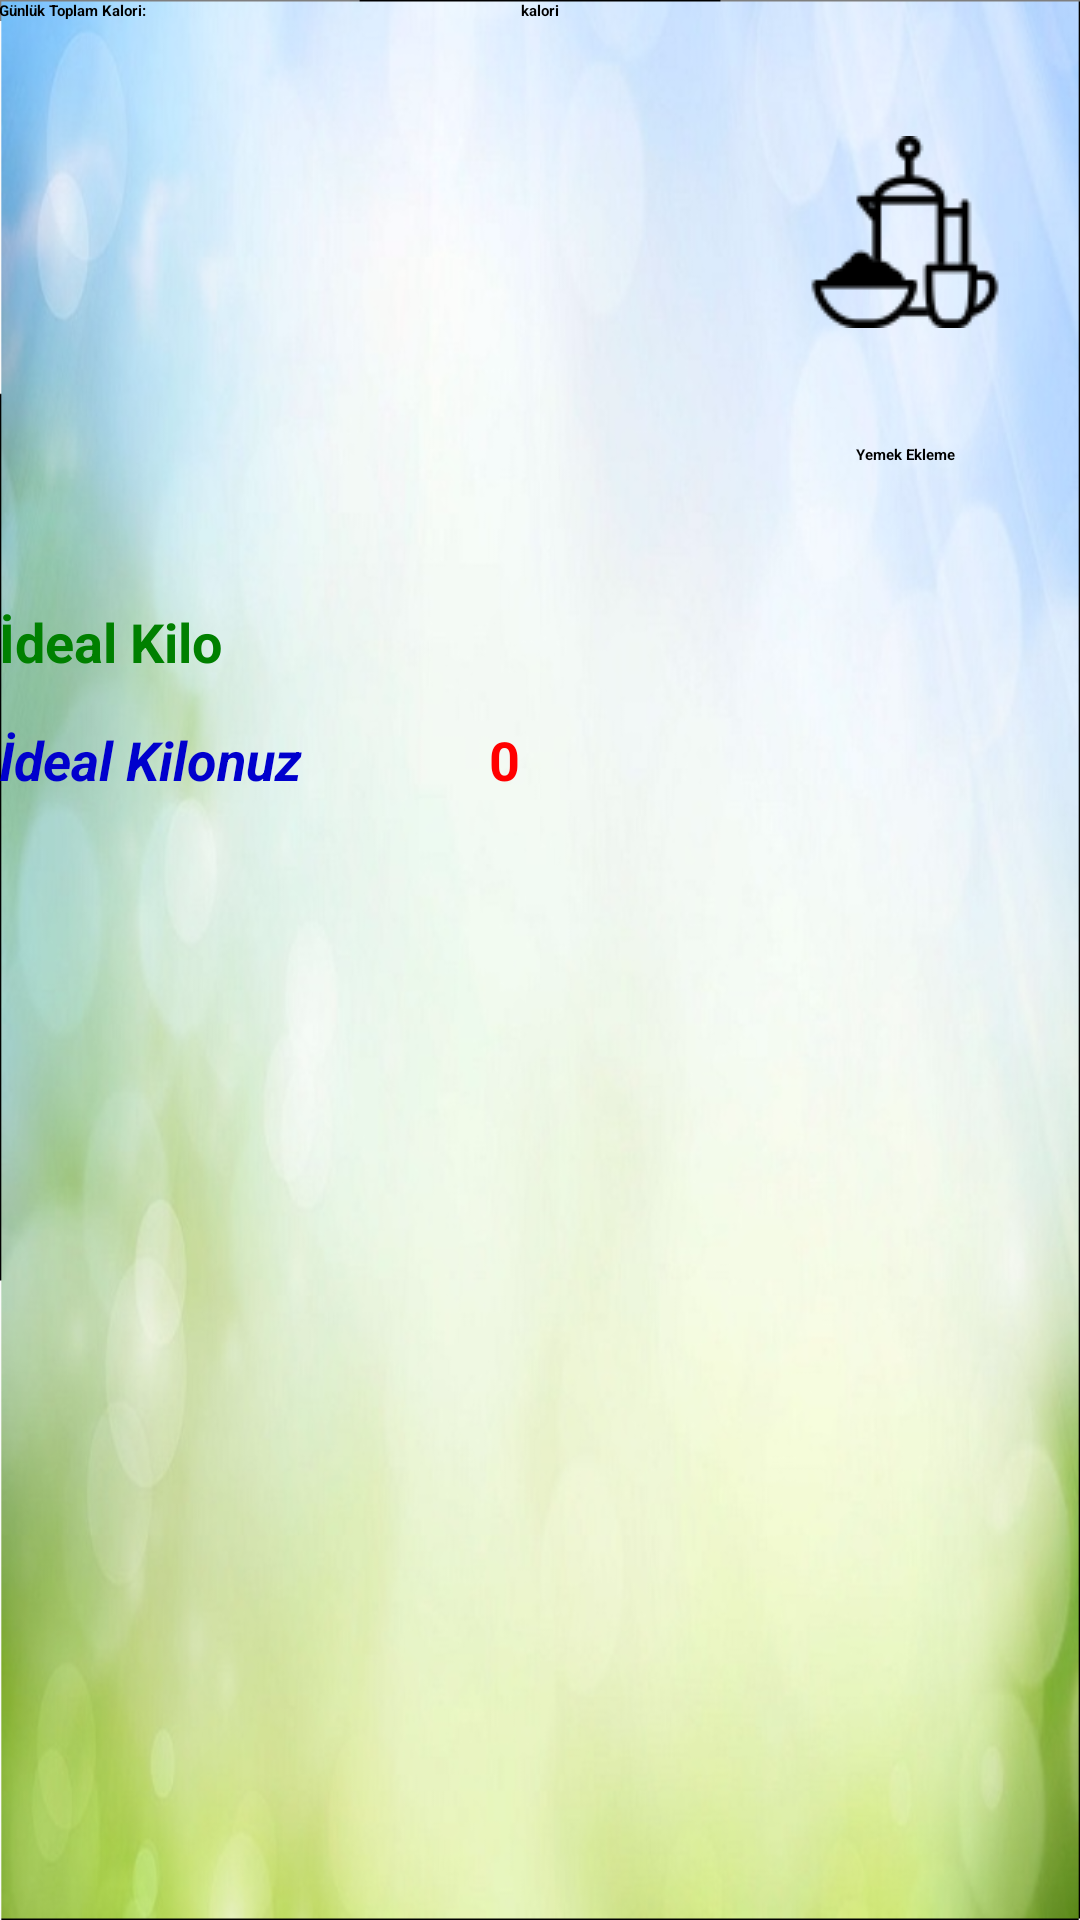

Icons on this 1080px x 1920px Android screen, each with its box as (x1, y1, x2, y2):
sabah atistirma: (811, 136, 1001, 328)
